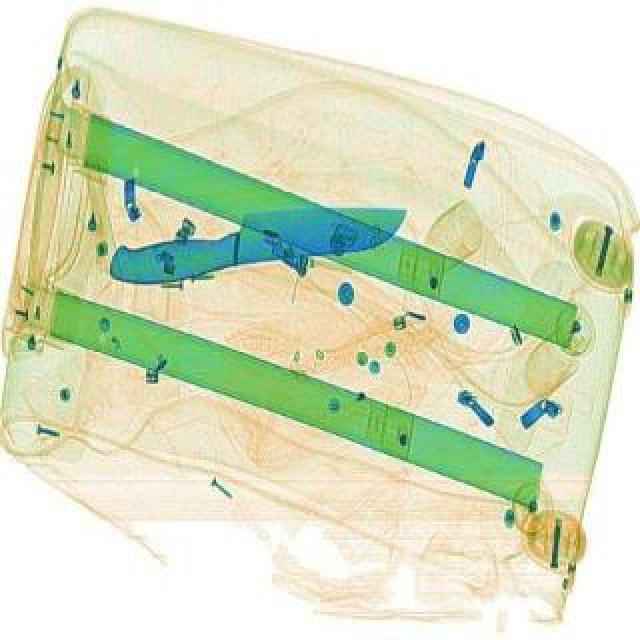knife: (104, 184, 412, 288)
